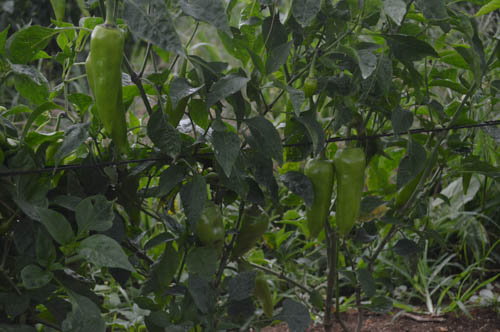ChiliPepper: (90, 26, 126, 131), (85, 57, 127, 144), (333, 150, 363, 238), (306, 162, 333, 240), (229, 211, 268, 256), (249, 272, 274, 320), (197, 202, 223, 241)
